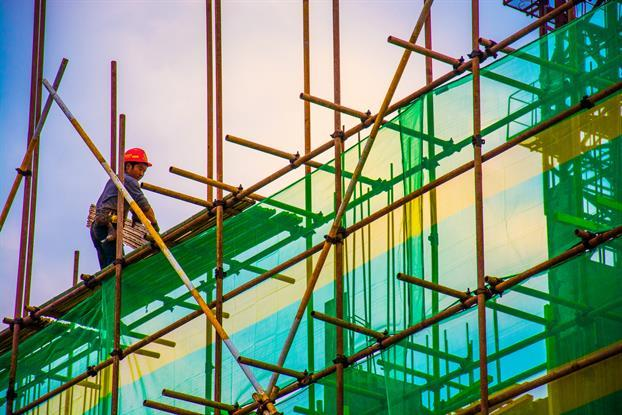helmet: (123, 147, 156, 169)
